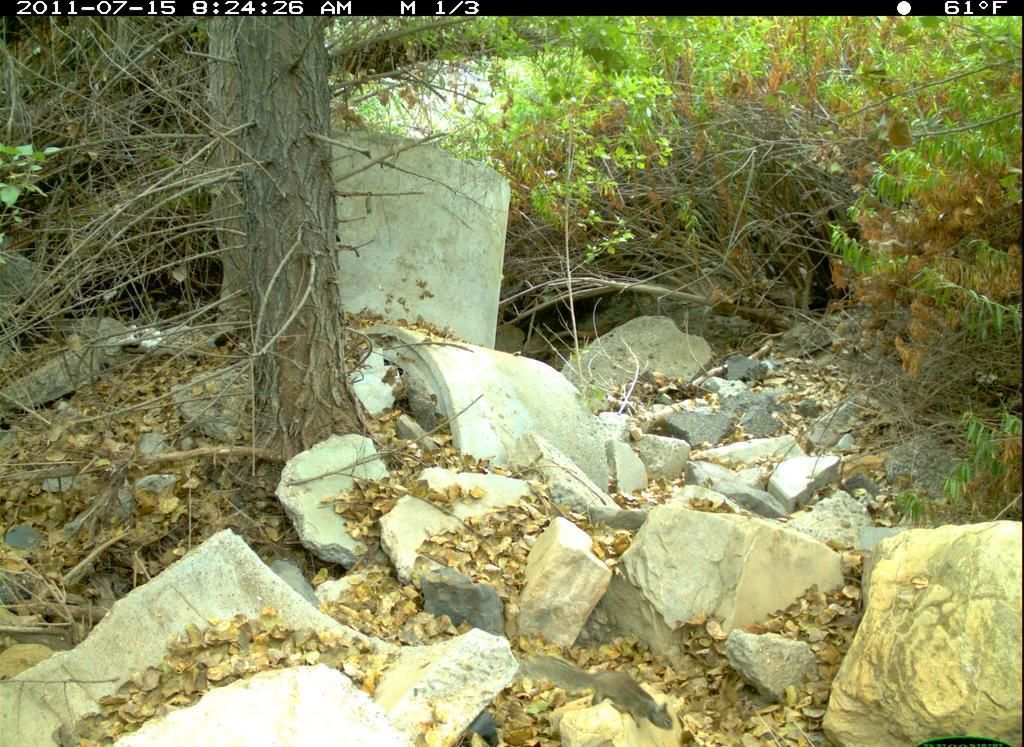squirrel: (510, 643, 684, 738)
